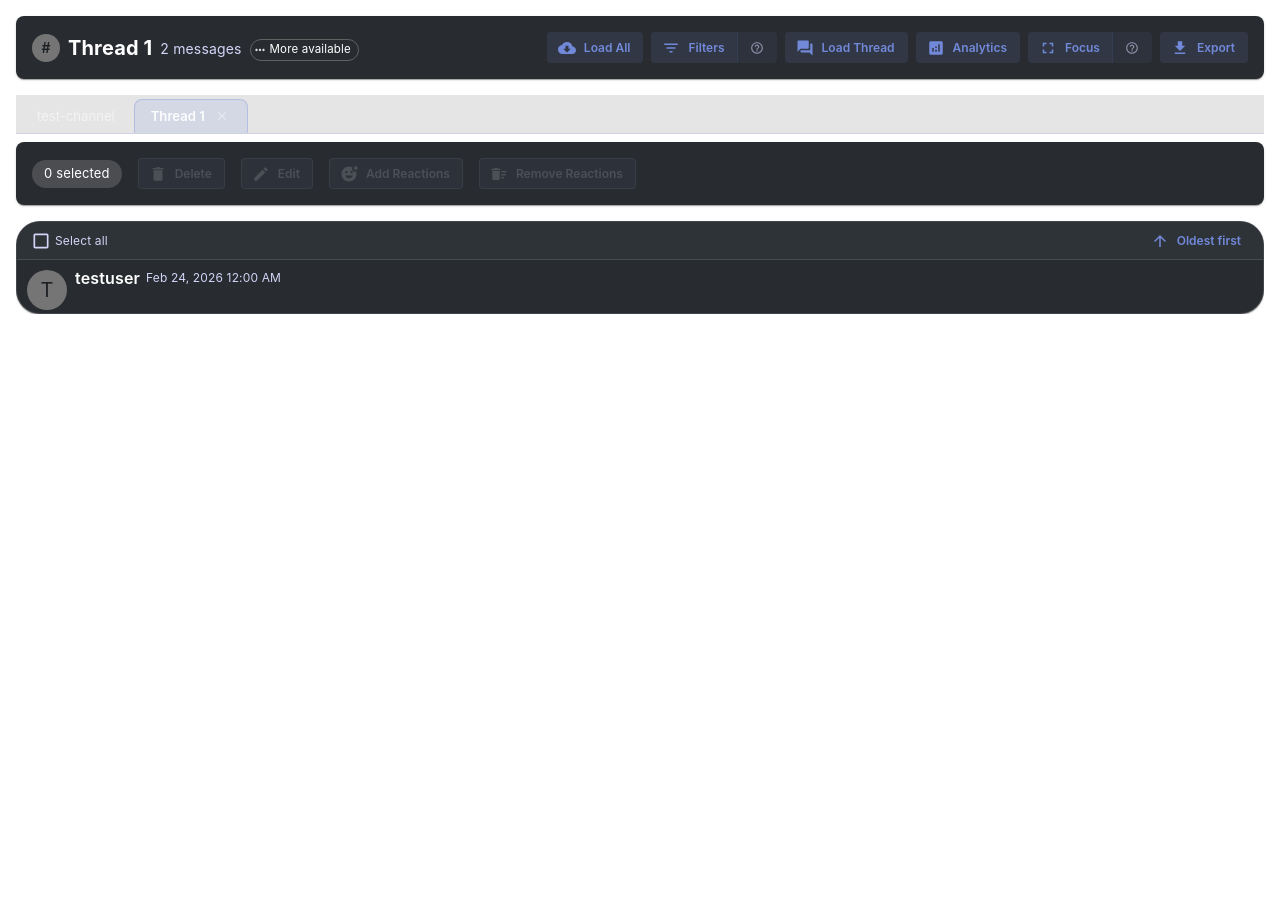
Test: ServerView › Per-Tab Partial Results Warning › should remove warning for closed thread tab
Note: Trigger warning on thread tab via Refine (client-side filter with hasMore)
Click the button with test id "search-filters-button": (695, 48) [652,32,738,63]
(page scrolled)
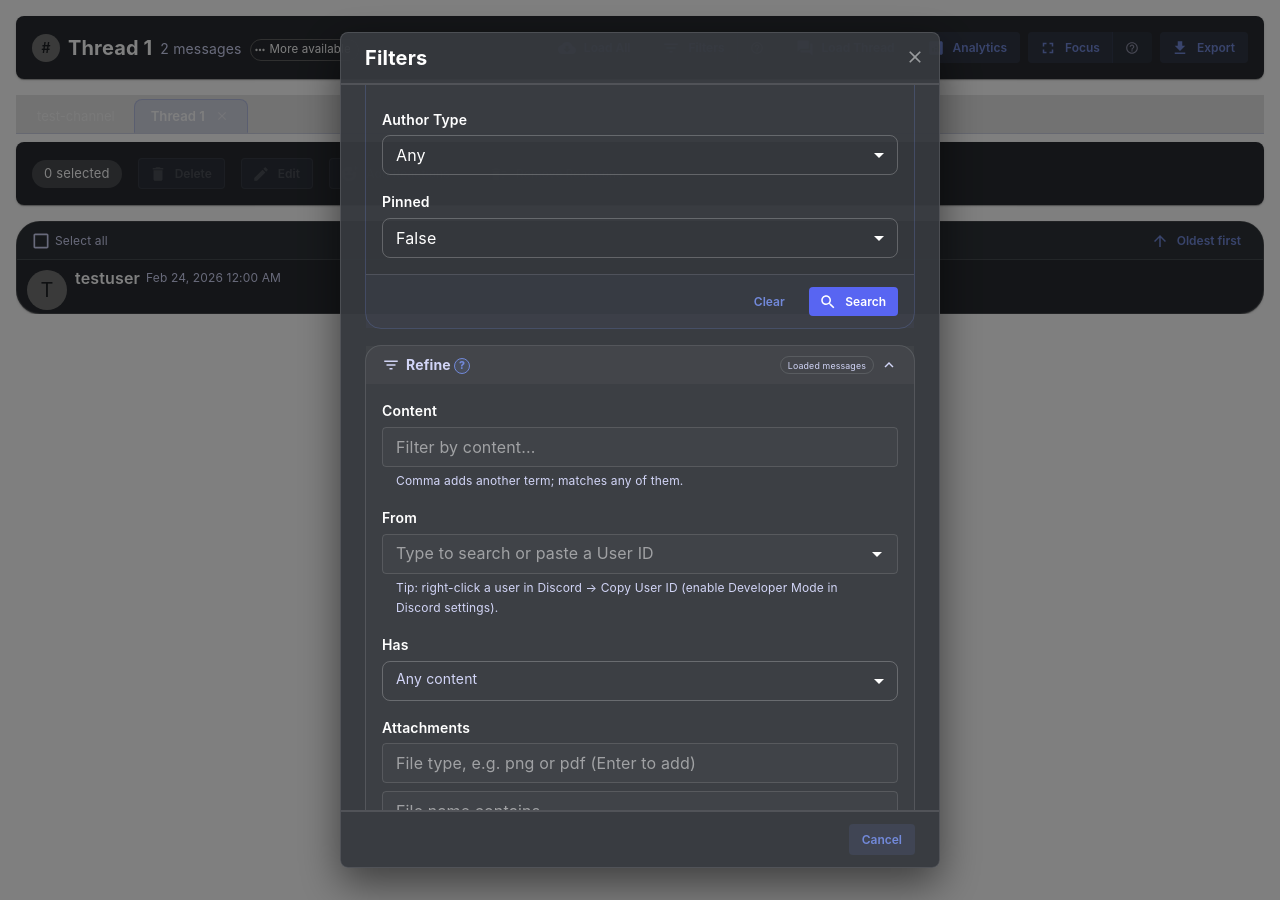
In the field with placeholder "Filter by content...": (640, 447) [382,427,898,467], type "message 1,"
(page scrolled)
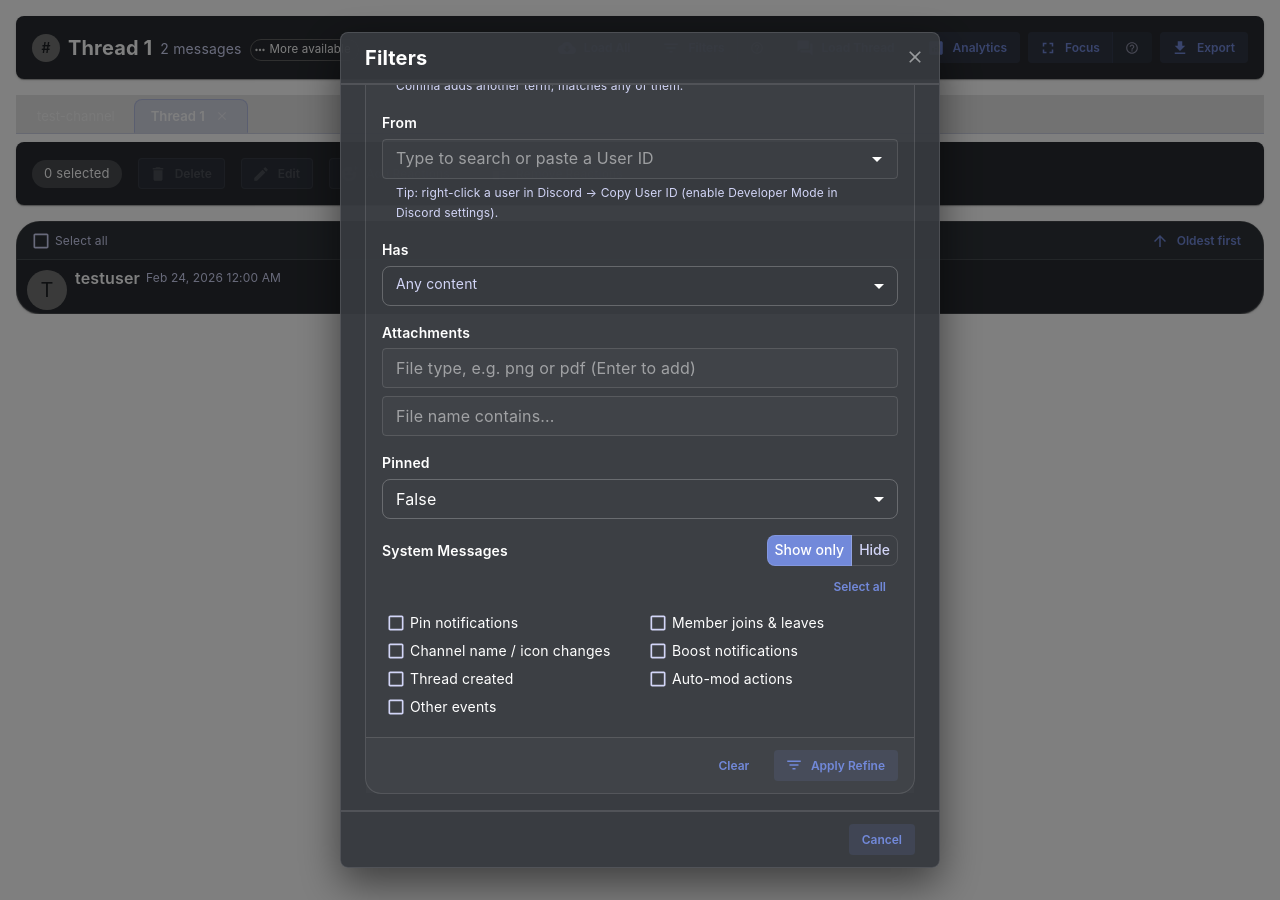
Click the button "Apply Refine": (836, 765) [774,750,898,781]
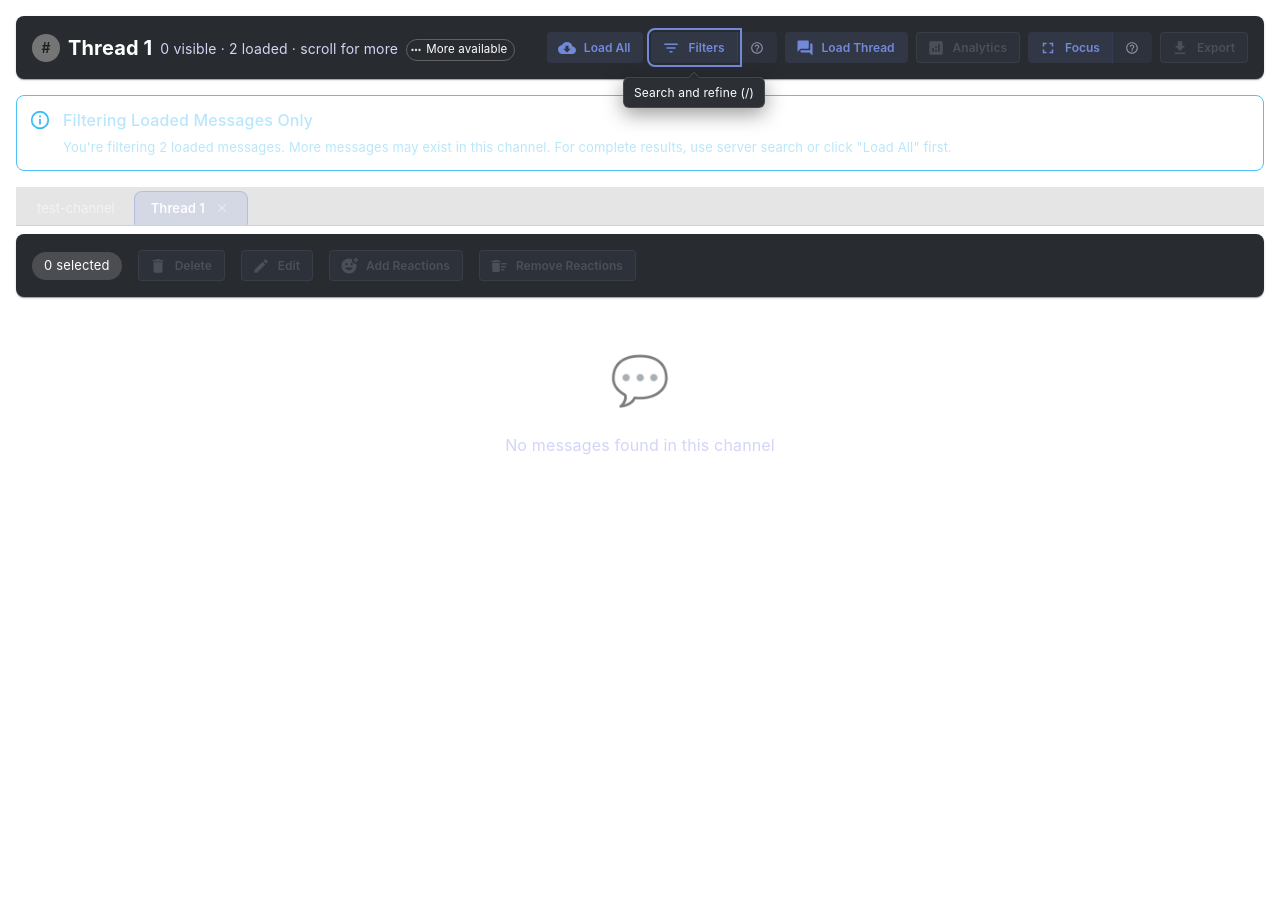
Expected: the text "Filtering Loaded Messages Only" is shown, [63,110,313,130]
